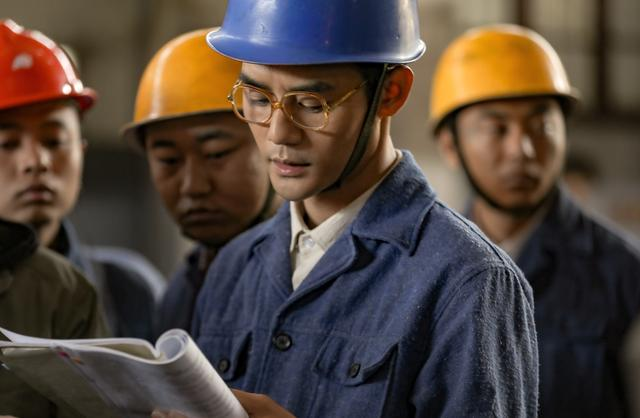helmet: (213, 1, 433, 67), (429, 22, 579, 113), (113, 33, 254, 127), (2, 21, 104, 122)
